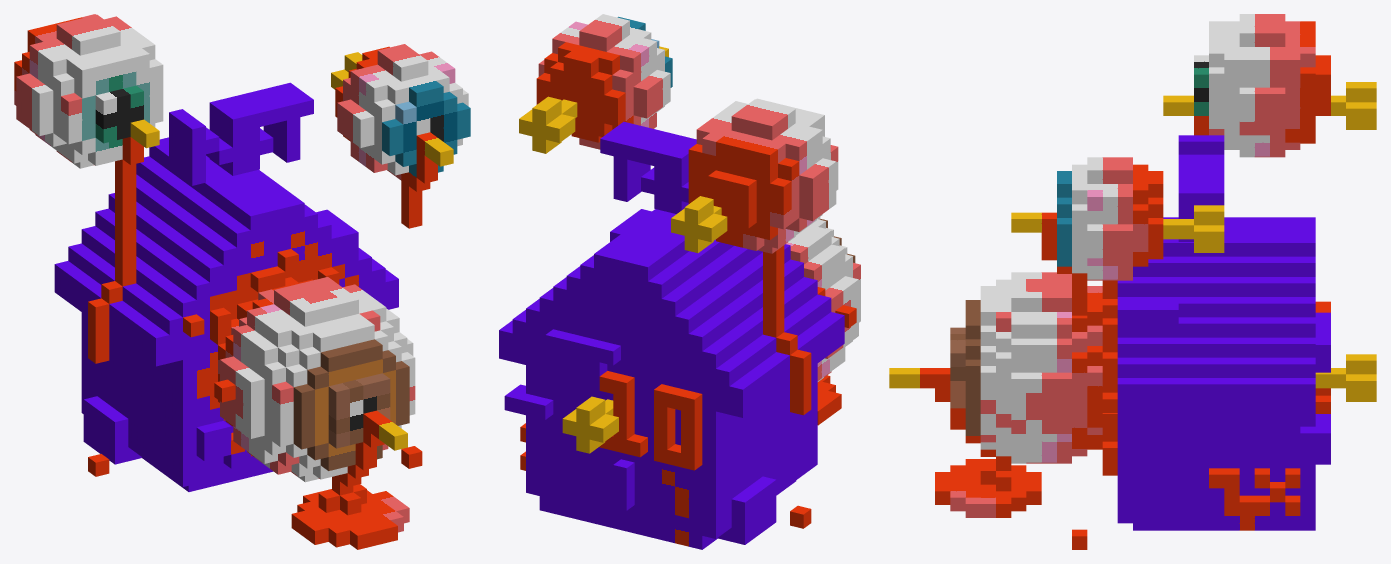
Rendered from HOME#10_GLB.glb.
The picture shows the model from 3 angles, left to right: view 1: azimuth 30°, elevation 25°; view 2: azimuth 150°, elevation 25°; view 3: azimuth 270°, elevation 25°; orthographic projection. The views are drawn at different scales.
Parts seen in each view (by area): view 1: Node-Local; view 2: Node-Local; view 3: Node-Local.
Boxes of the visible parts, x1,y1,x2,y2 form: Node-Local: (14,14,470,549); Node-Local: (499,14,860,549); Node-Local: (889,14,1376,549).
Size of the model in its own units: 26 by 30 by 32.
1 material, 1 textured.
